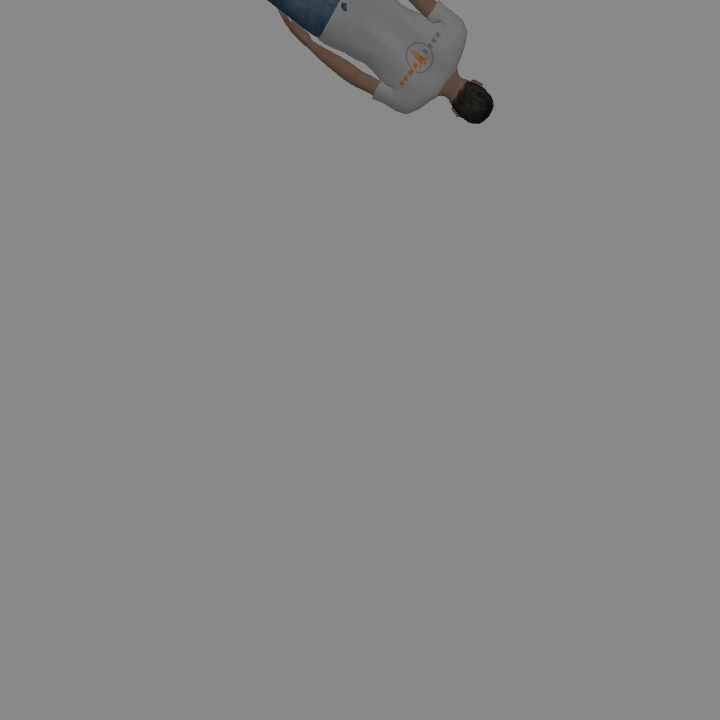victim: (272, 1, 489, 120)
